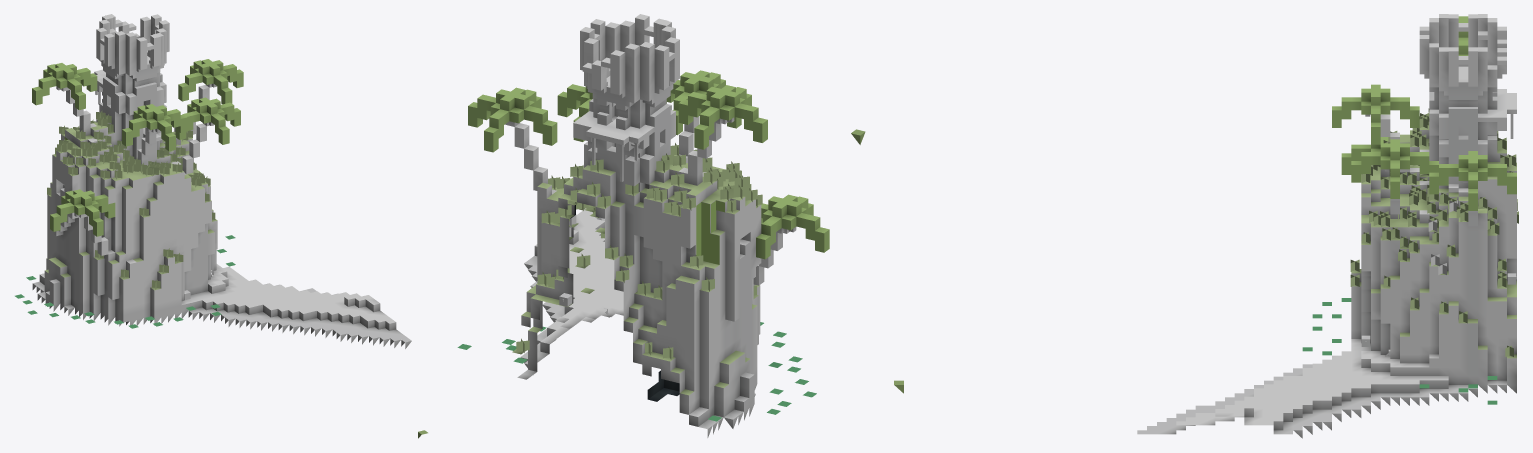
The picture shows the model from 3 angles, left to right: view 1: azimuth 30°, elevation 25°; view 2: azimuth 150°, elevation 25°; view 3: azimuth 270°, elevation 25°; orthographic projection. The views are drawn at different scales.
Parts seen in each view (by area): view 1: opaco, recorte; view 2: opaco, recorte; view 3: opaco, recorte.
Boxes of the visible parts, x1,y1,x2,y2 form: opaco: (32,15,411,348); recorte: (15,14,427,438); opaco: (505,20,789,437); recorte: (457,14,865,421); opaco: (1137,14,1516,438); recorte: (894,14,1518,404).
Bounding box in the file's own units: 39 × 37 × 64.2.
